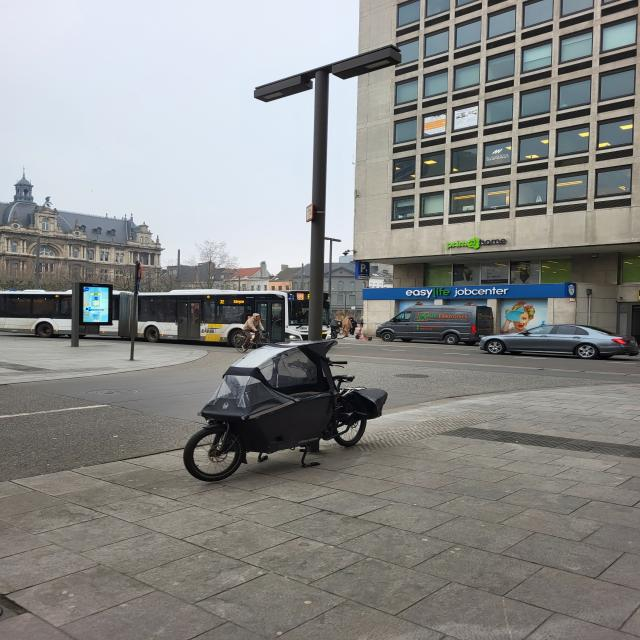bus-number: (296, 293, 304, 300)
